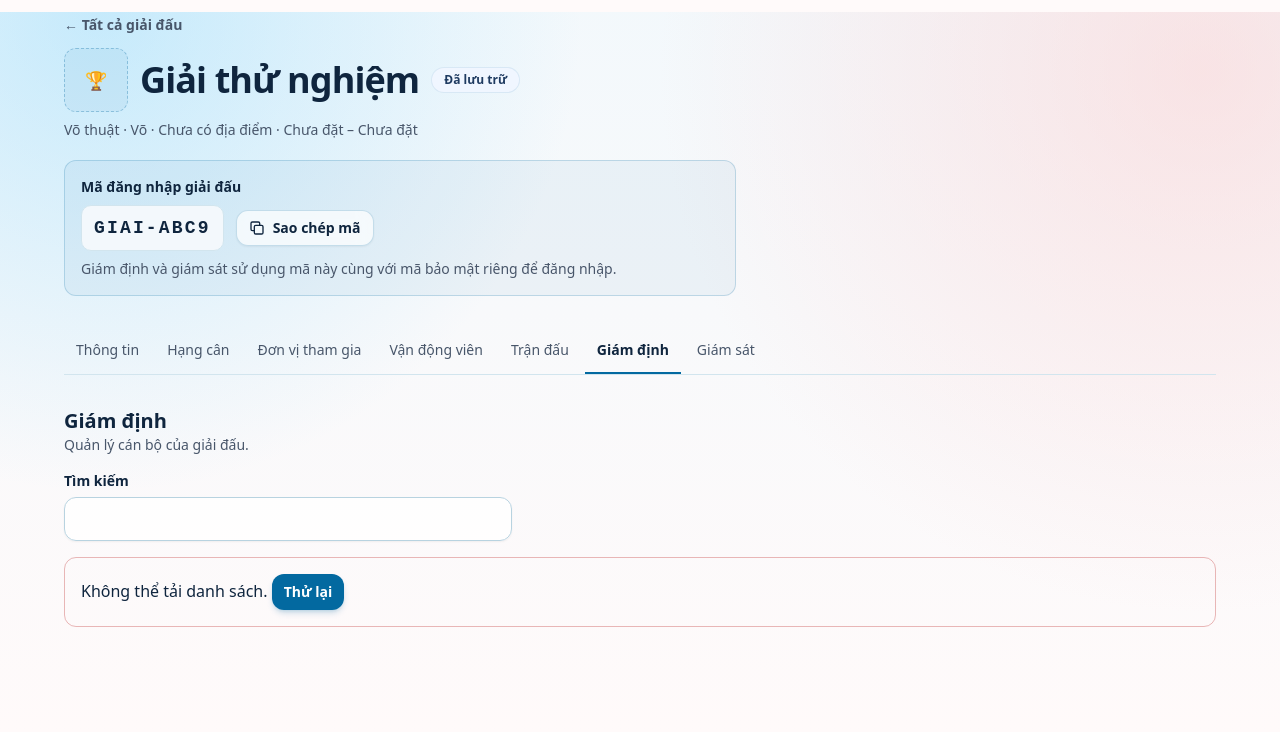
Test case: AdminTournamentDetailPage tournament login code › reports clipboard failures instead of silently ignoring them
The width and height of the screenshot is (1280, 732).
Expected: the text "GIAI-ABC9" is shown, [81,205,224,251]
Click the button with aria-label "Sao chép mã đăng nhập giải đấu" at (305, 228), box [236,210,374,246]
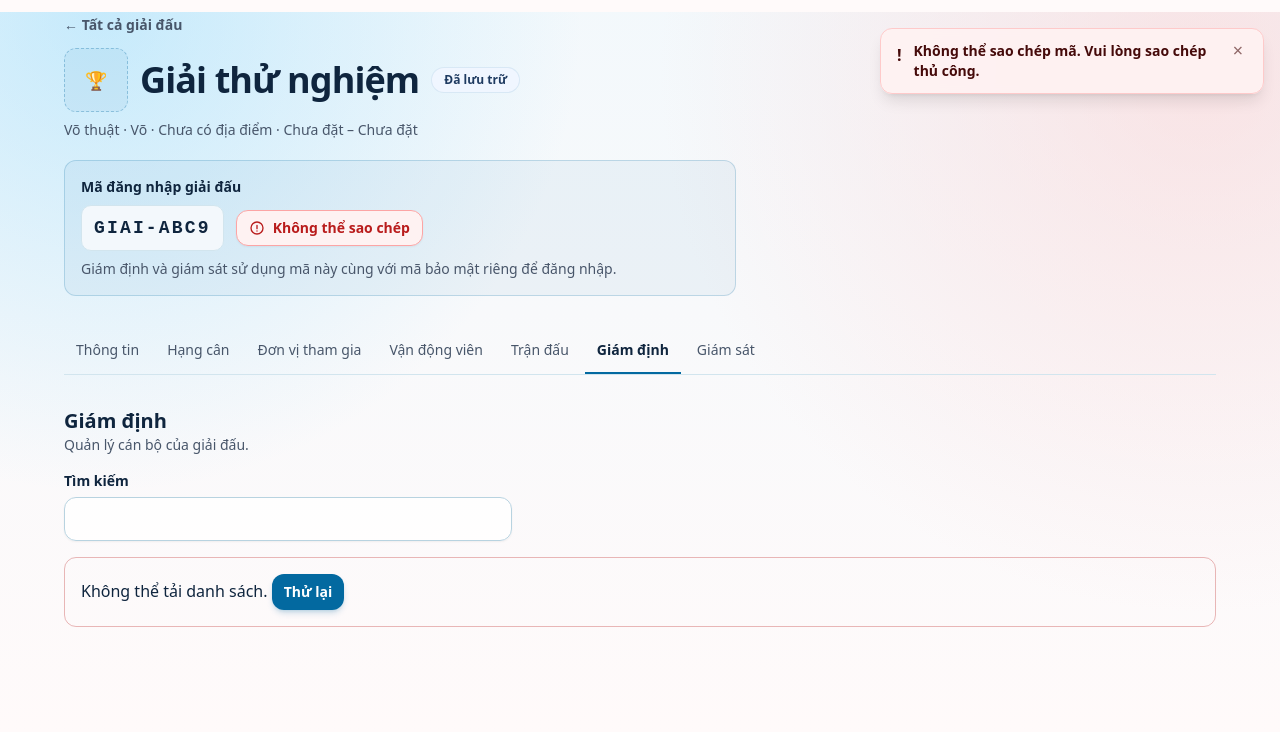
Expected: the text "Không thể sao chép mã. Vui lòng sao chép thủ công." is shown, [914,41,1217,81]
